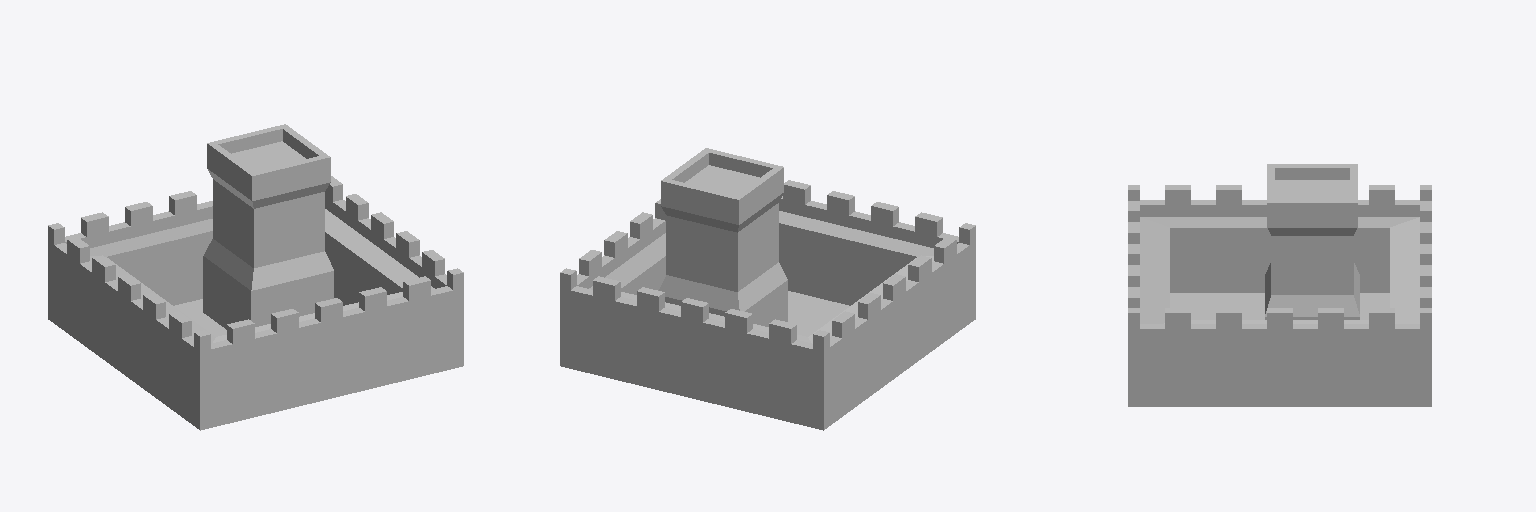
Rendered from Fort.obj.
The picture shows the model from 3 angles: view 1: azimuth 30°, elevation 25°; view 2: azimuth 150°, elevation 25°; view 3: azimuth 270°, elevation 25°; orthographic projection.
Parts seen in each view (by area): view 1: Fort_Cube; view 2: Fort_Cube; view 3: Fort_Cube.
Boxes of the visible parts, x1=… form: Fort_Cube: x1=48, y1=124, x2=463, y2=430; Fort_Cube: x1=560, y1=148, x2=975, y2=430; Fort_Cube: x1=1128, y1=164, x2=1431, y2=406.
Size of the model in its own units: 4 by 2.52 by 4.